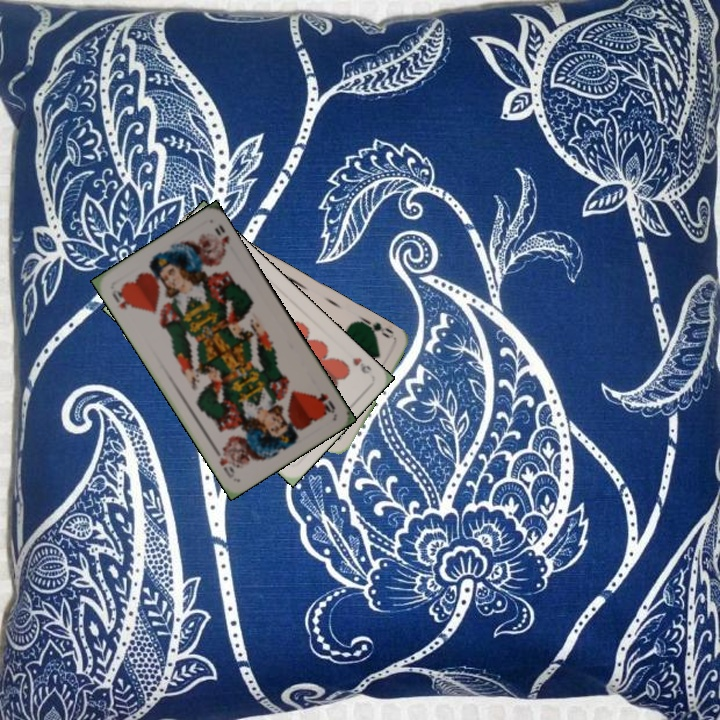GO: (356, 314, 396, 341)
H9: (348, 353, 374, 377)
HO: (311, 389, 338, 417), (108, 285, 135, 312)
